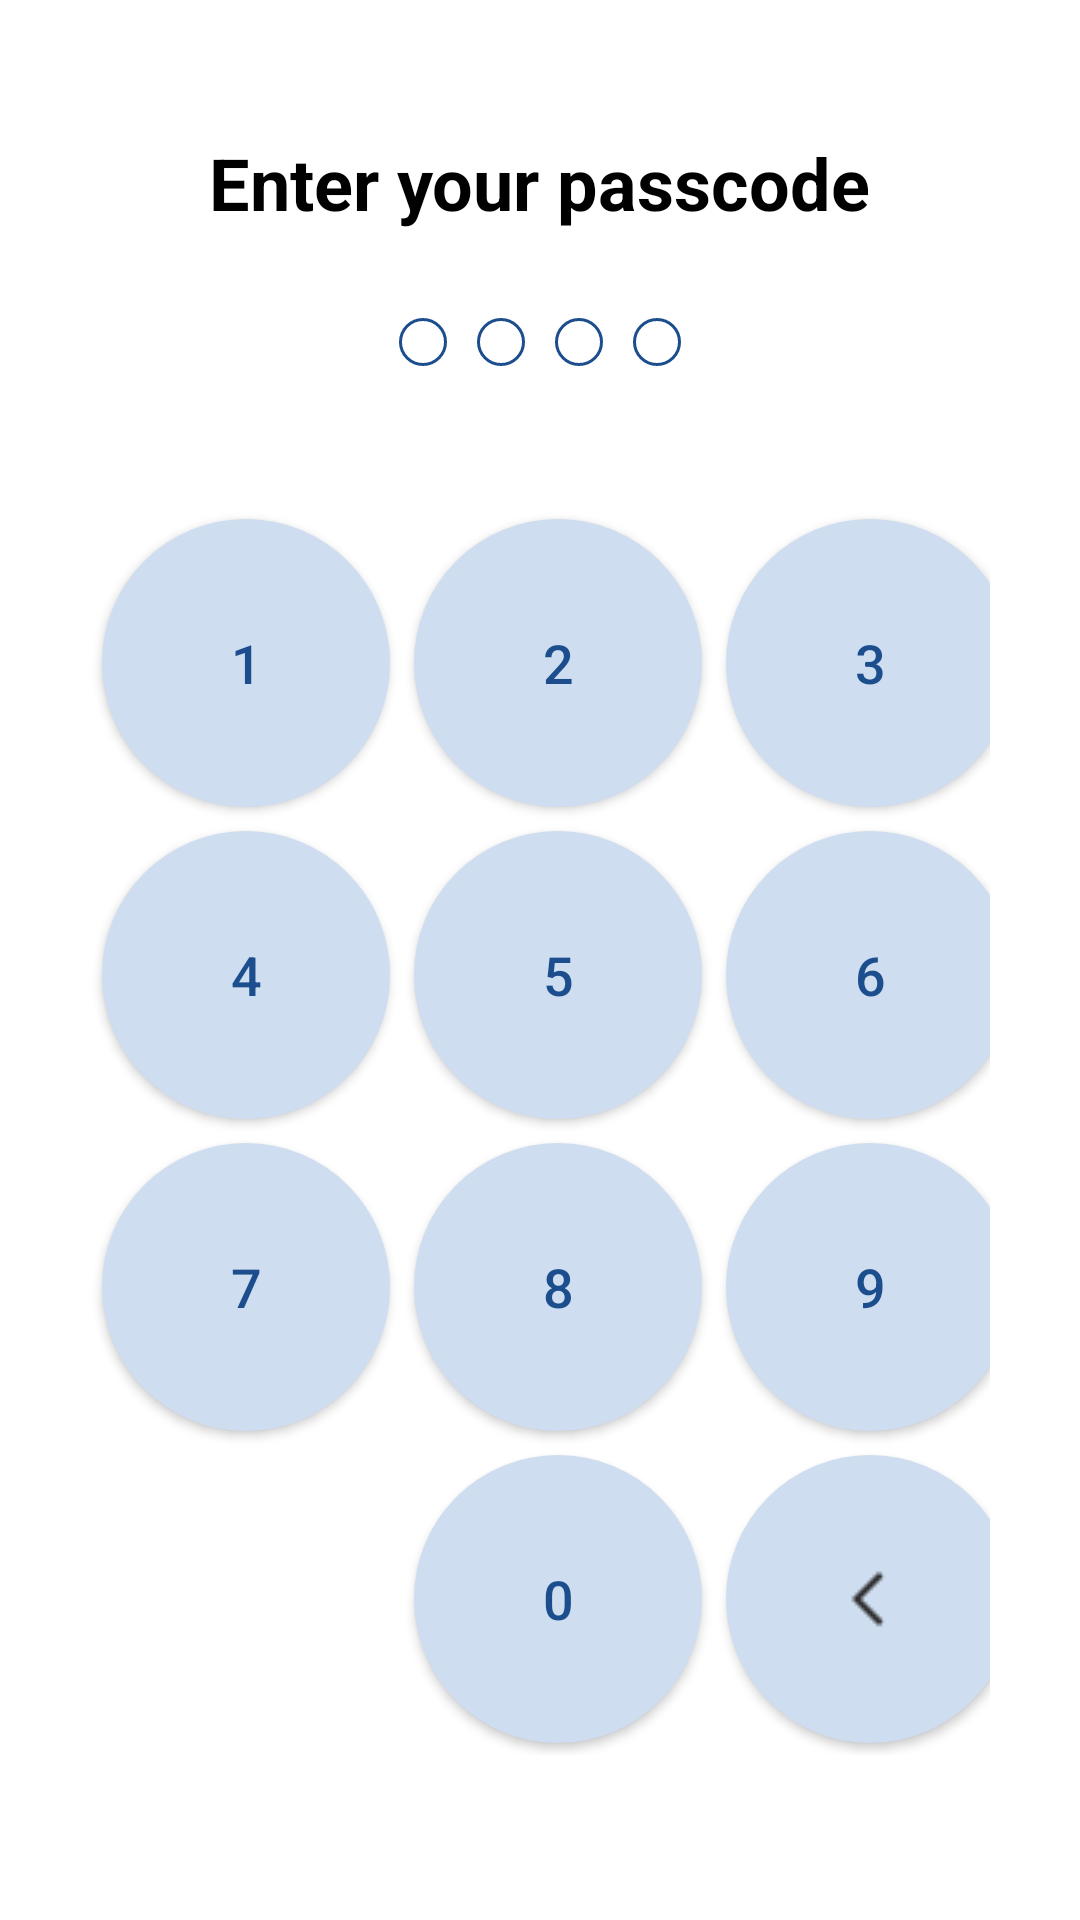

Named icons in this screenshot (1080 × 1920) and their bounding boxes, (left=x1, top=y1, right=x2, bottom=y2):
back: (left=726, top=1455, right=990, bottom=1743)
dot empty: (left=399, top=318, right=447, bottom=366), (left=477, top=318, right=525, bottom=366), (left=555, top=318, right=603, bottom=366), (left=633, top=318, right=681, bottom=366)
